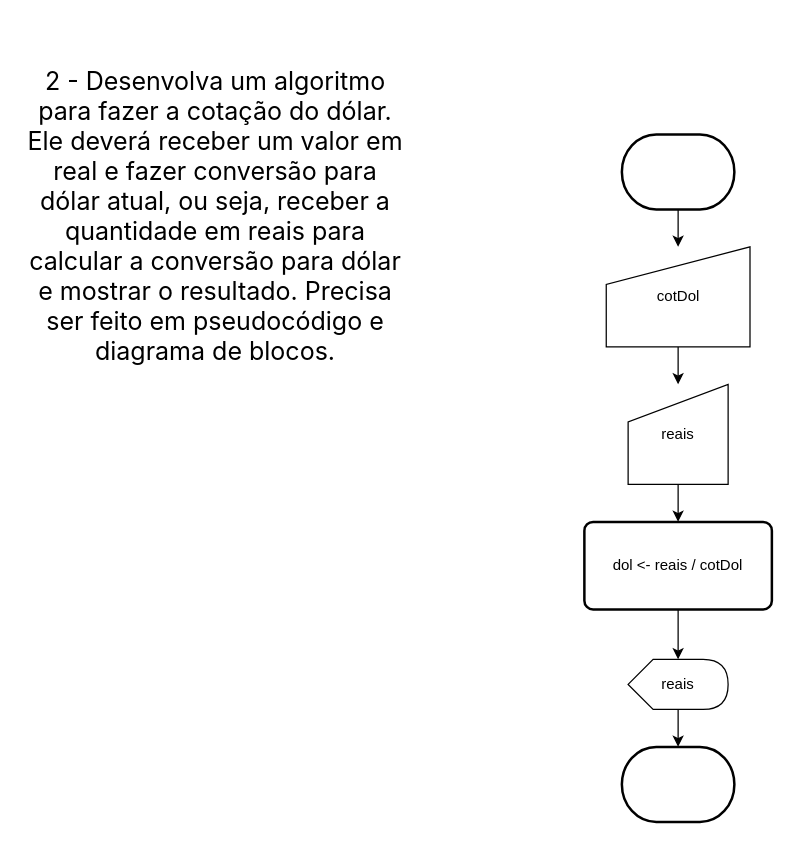
This 794x844 diagram has some shape labels left out. The centre of each missing label's shape, as x and y in pixels:
Fim: point 677,783
Início: point 677,171
